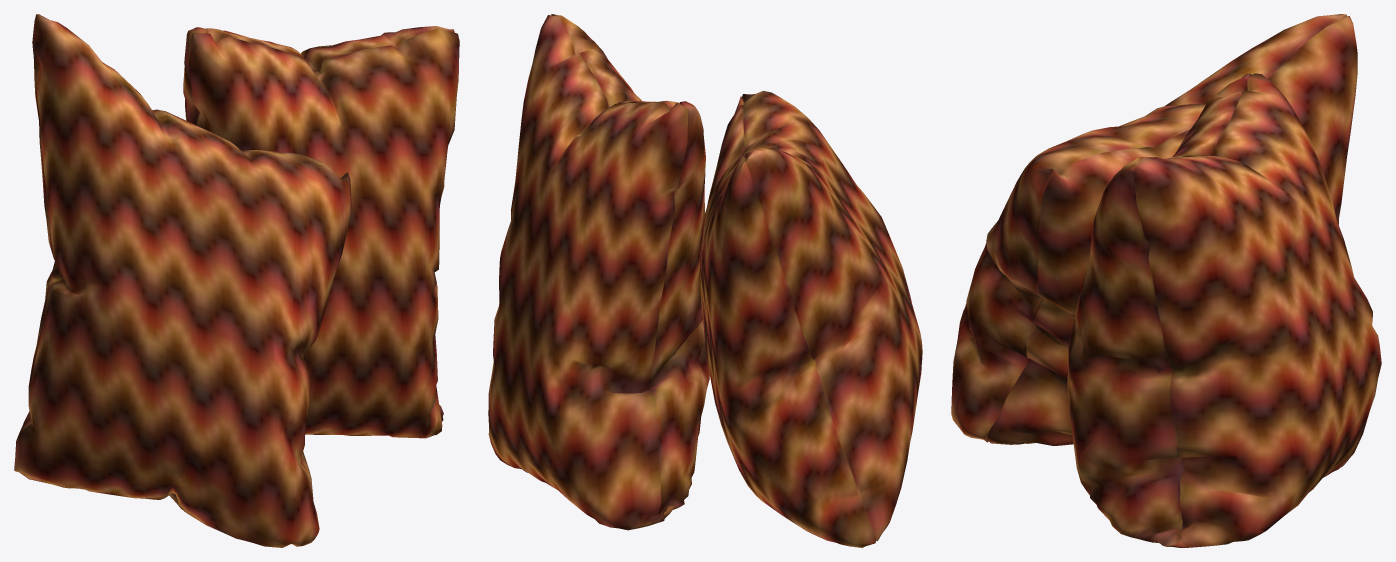
The model's file is ph-throw-pillows-01.glb.
The picture shows the model from 3 angles, left to right: view 1: azimuth 30°, elevation 25°; view 2: azimuth 150°, elevation 25°; view 3: azimuth 270°, elevation 25°; orthographic projection. The views are drawn at different scales.
Parts seen in each view (by area): view 1: throw_pillows_01_pillow02; view 2: throw_pillows_01_pillow02; view 3: throw_pillows_01_pillow02.
Part boxes in pixels (x1,y1,x2,y2): throw_pillows_01_pillow02: (14, 14, 459, 547); throw_pillows_01_pillow02: (488, 14, 922, 547); throw_pillows_01_pillow02: (951, 14, 1381, 547).
Size of the model in its own units: 1 by 1 by 1.
1 material, 1 textured.
